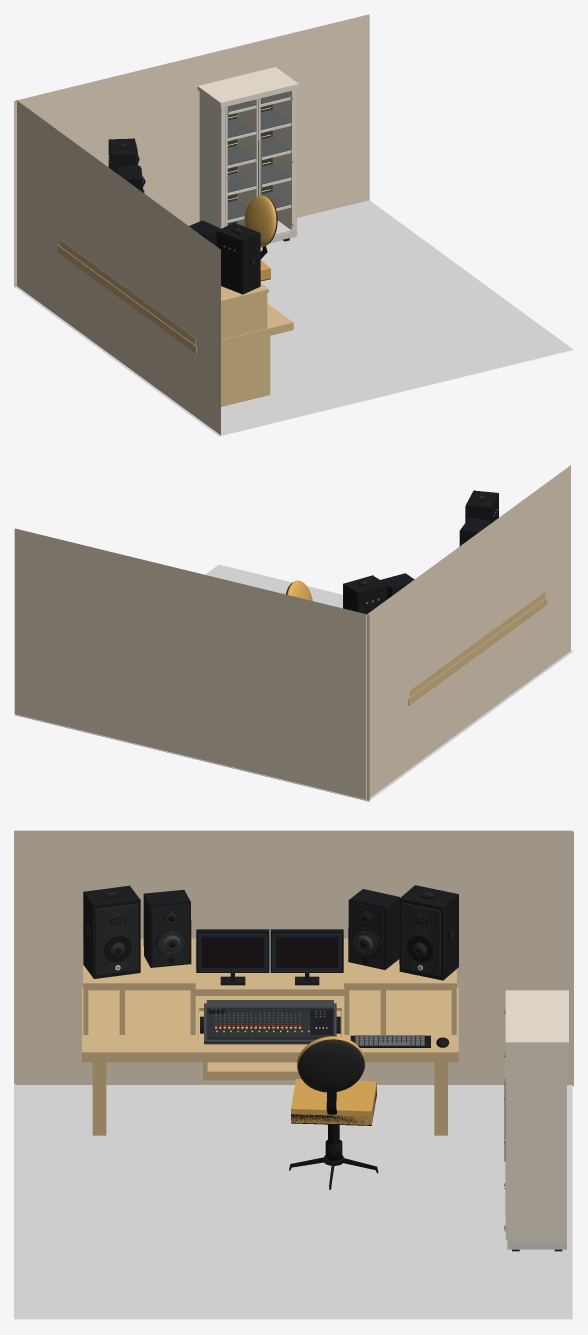
The model's file is LAB AUDIO.glb.
The picture shows the model from 3 angles, top to bottom: view 1: azimuth 30°, elevation 25°; view 2: azimuth 150°, elevation 25°; view 3: azimuth 270°, elevation 25°; orthographic projection. The views are drawn at different scales.
Parts seen in each view (by area): view 1: Plane.001, Plane.004, Plane.003, Top Panel, Left Shelf Outer.001, Bola.001; view 2: Plane.003, Plane.004, Left Shelf Outer.001, Plane.001; view 3: Plane.001, Plane.004, Left Shelf Outer.001, Top Panel, Bola.001, Kubus.007.
Boxes of the visible parts, box(x1,y1,x2,y2) form: Plane.001: box(14, 14, 573, 436); Plane.004: box(16, 100, 220, 436); Plane.003: box(14, 14, 369, 287); Top Panel: box(197, 67, 298, 242); Left Shelf Outer.001: box(57, 138, 293, 406); Bola.001: box(244, 195, 277, 247); Plane.003: box(14, 528, 369, 801); Plane.004: box(366, 465, 570, 801); Left Shelf Outer.001: box(343, 490, 547, 705); Plane.001: box(14, 564, 573, 800); Plane.001: box(14, 830, 572, 1319); Plane.004: box(15, 831, 573, 1086); Left Shelf Outer.001: box(82, 885, 458, 1135); Top Panel: box(504, 990, 568, 1251); Bola.001: box(296, 1036, 365, 1092); Kubus.007: box(291, 1079, 376, 1124).
Bounding box in the file's own units: 2 × 1.01 × 2.
